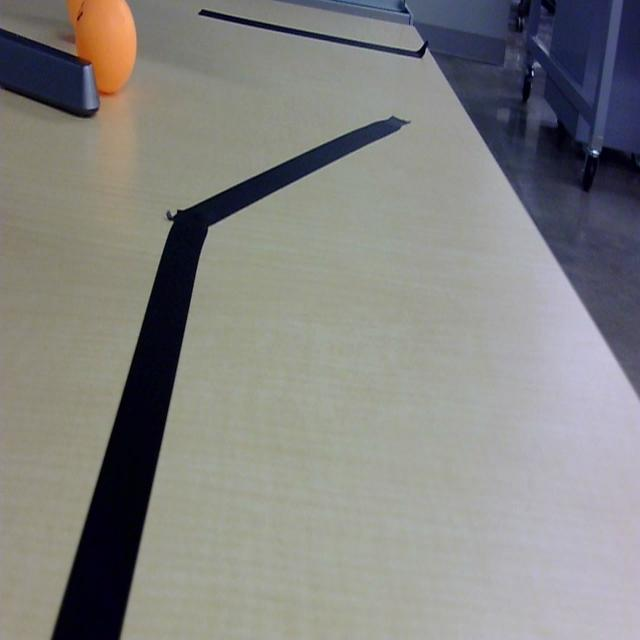ball: (72, 0, 142, 103), (61, 0, 113, 38)
tape: (41, 102, 425, 640), (185, 4, 436, 79)
